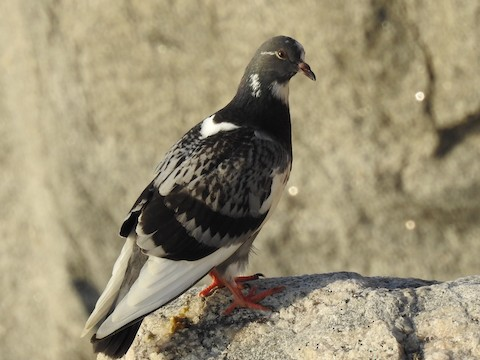pigeon: (77, 32, 319, 357)
